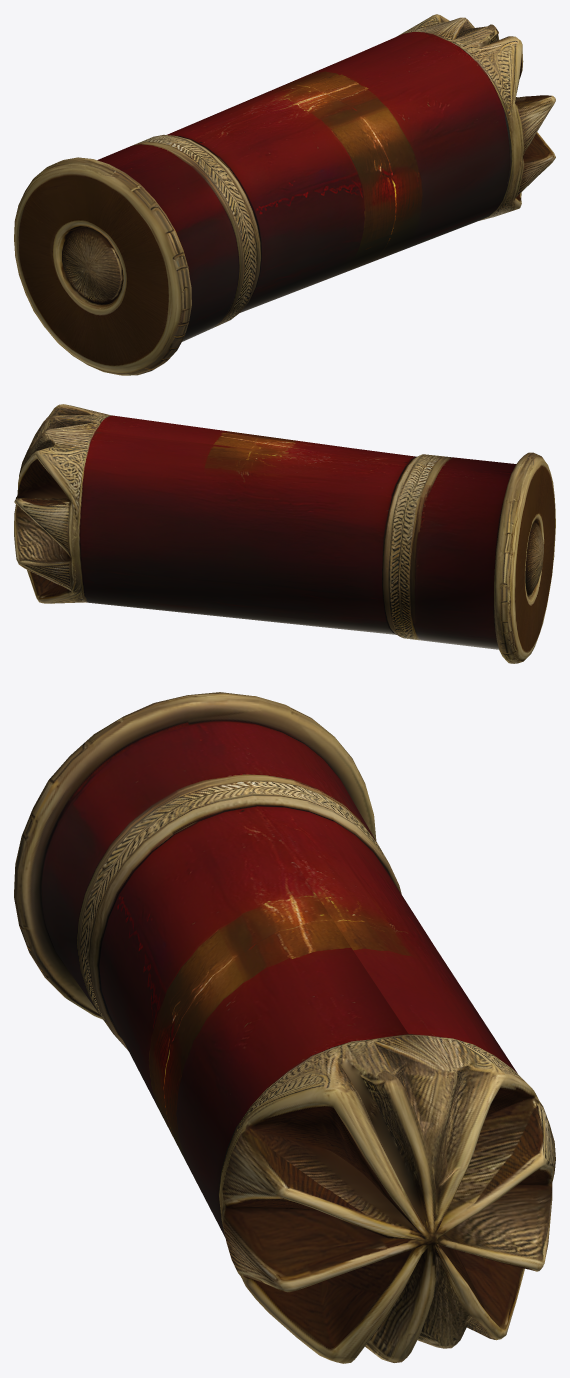
The model's file is shotgun_shell.glb.
The picture shows the model from 3 angles, top to bottom: view 1: azimuth 30°, elevation 25°; view 2: azimuth 150°, elevation 25°; view 3: azimuth 270°, elevation 25°; orthographic projection. The views are drawn at different scales.
Parts seen in each view (by area): view 1: mesh_rep_0_ori_repair; view 2: mesh_rep_0_ori_repair; view 3: mesh_rep_0_ori_repair.
Part boxes in pixels (x1,y1,x2,y2): mesh_rep_0_ori_repair: (14,14,555,375); mesh_rep_0_ori_repair: (14,404,555,663); mesh_rep_0_ori_repair: (14,692,555,1363).
Bounding box in the file's own units: 1.18 × 0.4456 × 0.6523.
1 material, 1 textured.
